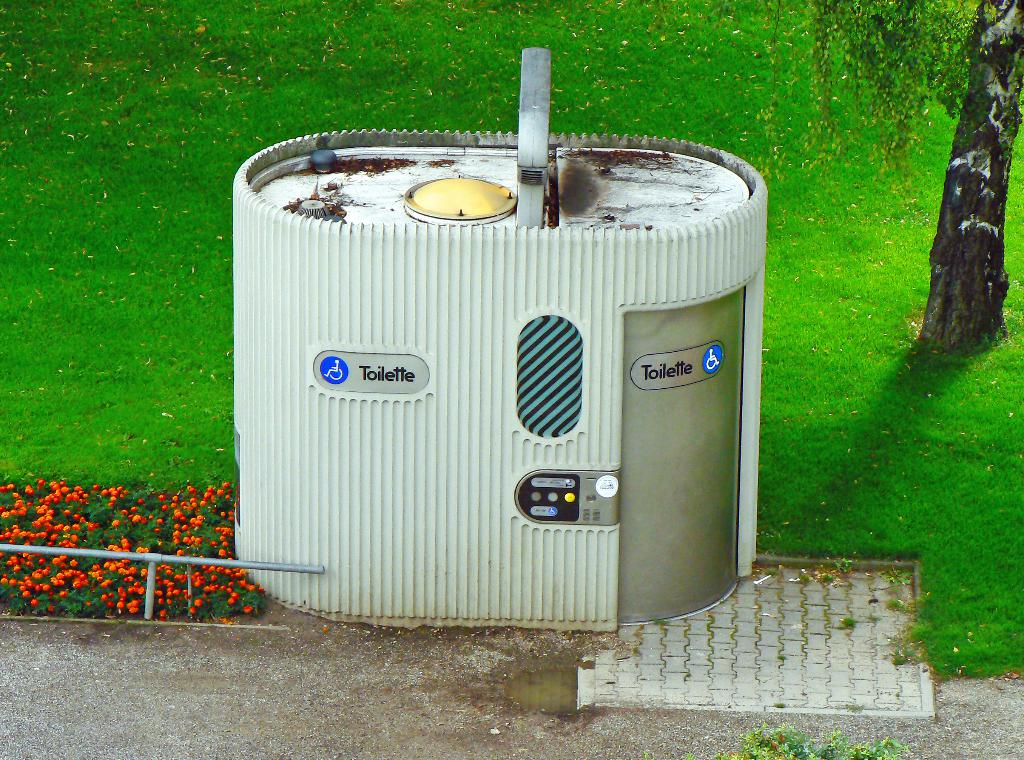Tree: (769, 0, 1023, 354)
